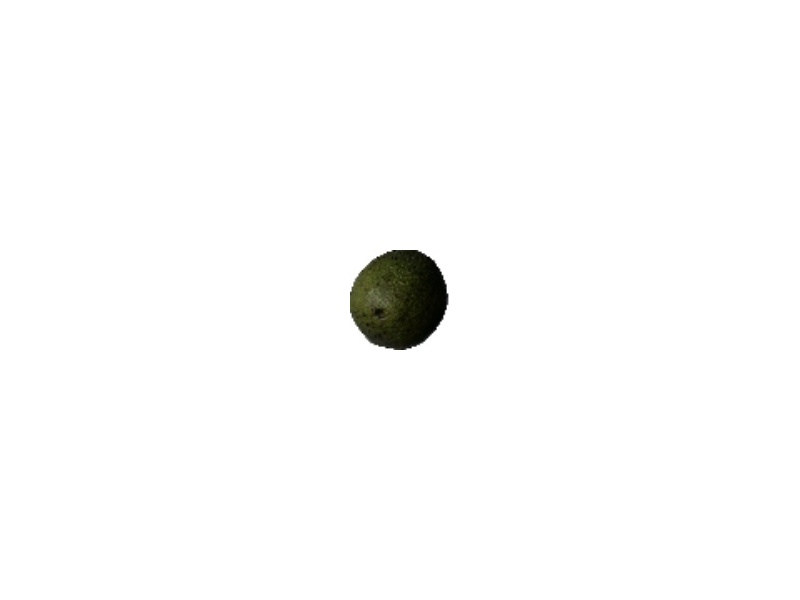abacate: (348, 246, 451, 351)
